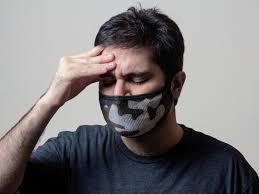mask: (90, 82, 179, 139)
